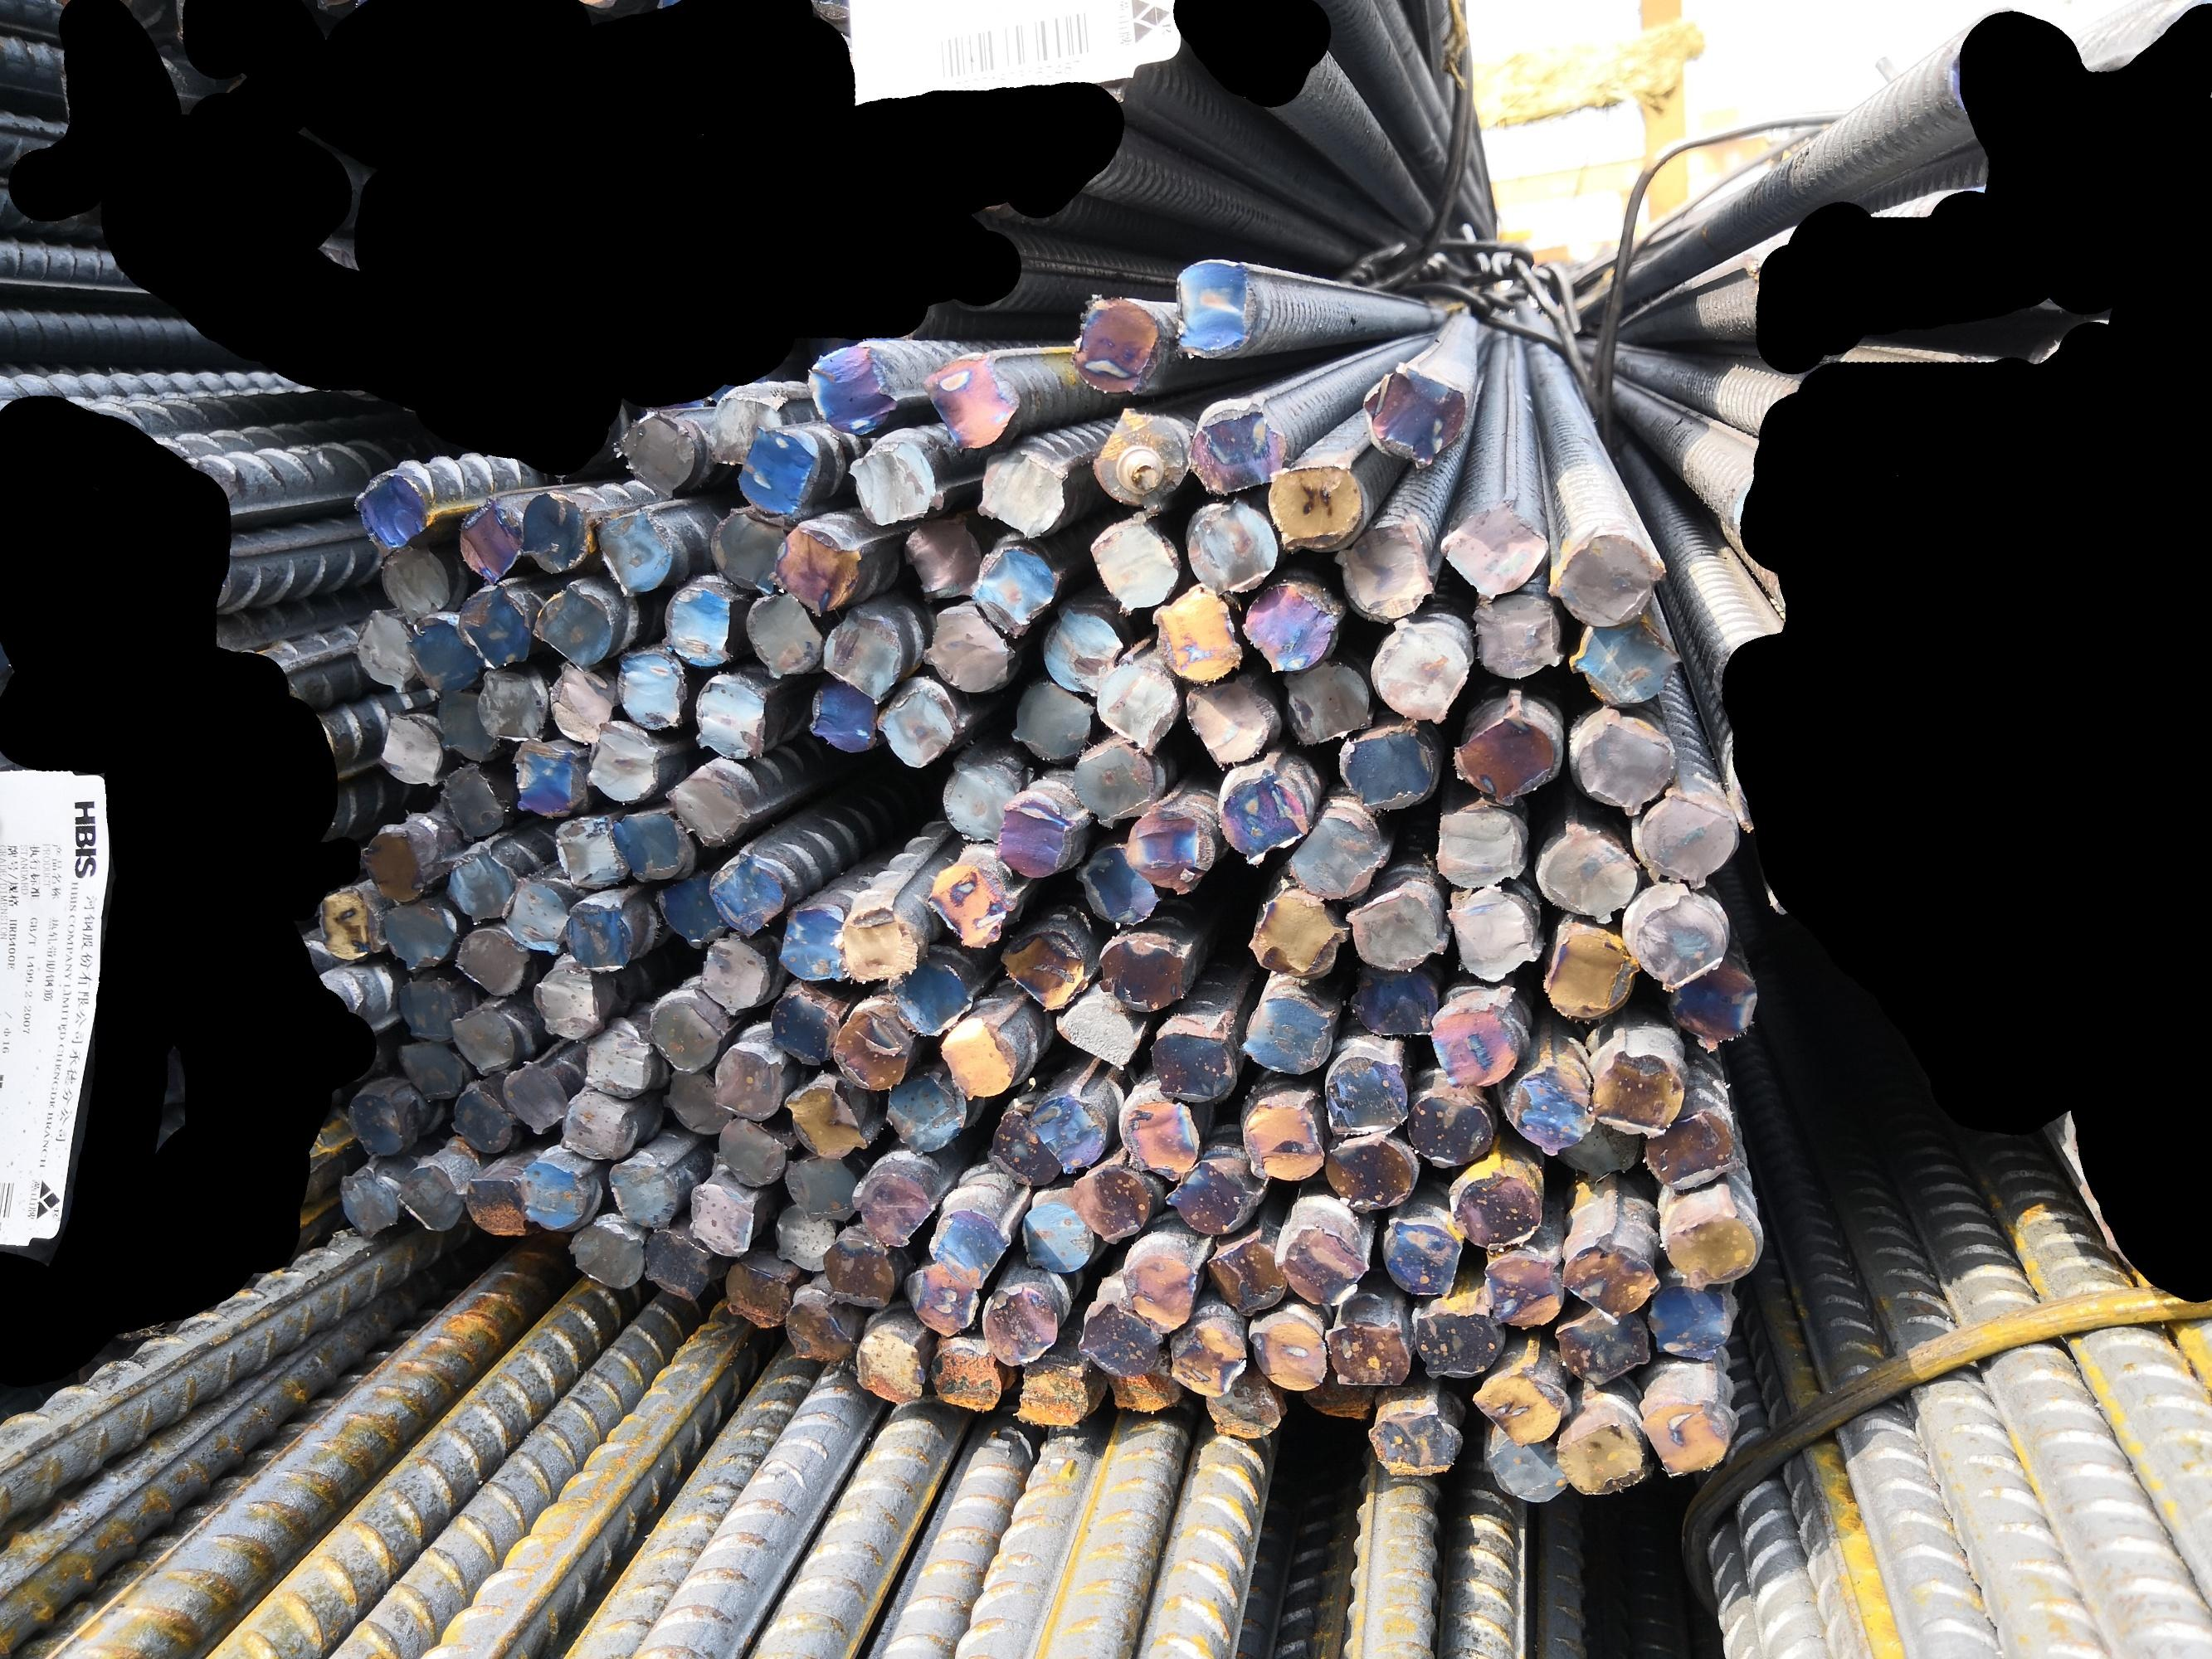bar: (1544, 526, 1666, 627), (1358, 357, 1469, 467), (1367, 612, 1473, 727), (1452, 697, 1564, 805), (1565, 709, 1677, 816), (1436, 495, 1550, 599), (1632, 786, 1740, 889), (915, 349, 1020, 453), (1534, 819, 1639, 924), (1567, 617, 1682, 709), (1245, 884, 1351, 983), (1236, 575, 1339, 676), (1543, 918, 1640, 1025), (845, 430, 950, 528), (1335, 521, 1435, 622), (1182, 401, 1286, 495), (1259, 458, 1367, 549), (1288, 803, 1388, 901), (1147, 582, 1243, 683), (1628, 890, 1729, 986), (1217, 760, 1309, 864), (800, 340, 899, 436), (1069, 295, 1163, 396), (1558, 1232, 1663, 1323), (1086, 514, 1184, 610), (1091, 410, 1191, 504), (1119, 802, 1215, 897), (1443, 889, 1541, 983), (1659, 957, 1759, 1049), (1428, 798, 1529, 889), (1344, 885, 1450, 971), (997, 915, 1091, 1011), (769, 518, 861, 615), (1180, 502, 1279, 592), (1065, 735, 1166, 824), (1659, 1204, 1762, 1291), (1088, 652, 1180, 748), (1590, 1047, 1686, 1140), (1272, 1218, 1370, 1309), (973, 444, 1070, 535), (1180, 676, 1278, 767), (1504, 1056, 1595, 1154), (1550, 1302, 1651, 1389), (1239, 985, 1335, 1075), (920, 601, 1016, 692), (967, 545, 1063, 636), (1468, 591, 1565, 680), (1171, 258, 1255, 361), (922, 857, 1014, 948), (1321, 1046, 1410, 1140), (1150, 1011, 1238, 1107), (1096, 931, 1196, 1014), (1335, 727, 1436, 809), (1426, 1000, 1518, 1089), (1049, 983, 1143, 1070), (1642, 1281, 1738, 1366), (455, 570, 535, 671), (525, 577, 615, 666), (702, 502, 790, 594), (657, 763, 751, 849), (936, 751, 1021, 845), (1239, 1100, 1328, 1188), (612, 408, 699, 498), (896, 518, 988, 603), (591, 505, 675, 599), (1035, 601, 1119, 695), (1279, 659, 1374, 742), (1645, 1110, 1740, 1194), (1469, 1364, 1567, 1445), (1072, 842, 1161, 929), (1117, 1091, 1203, 1182), (818, 608, 903, 699), (1401, 1086, 1496, 1168), (1551, 1419, 1647, 1499), (1639, 1399, 1734, 1480), (1450, 1171, 1546, 1251), (1318, 1136, 1417, 1213), (347, 467, 434, 554), (870, 683, 959, 769), (1009, 680, 1098, 765), (741, 587, 824, 678), (1476, 1249, 1567, 1333), (704, 847, 786, 939), (830, 903, 922, 985), (689, 666, 767, 762), (887, 953, 976, 1037), (1381, 1211, 1464, 1300), (779, 1075, 870, 1157), (734, 422, 814, 514), (1163, 1159, 1260, 1234), (560, 1208, 645, 1293), (1065, 1162, 1152, 1246), (934, 1011, 1018, 1098), (828, 1002, 910, 1091), (924, 1208, 1014, 1288), (657, 577, 736, 669), (1346, 964, 1438, 1042), (370, 538, 455, 622), (882, 1072, 967, 1155), (1025, 1086, 1109, 1171), (1203, 1229, 1286, 1314), (1241, 1314, 1330, 1394), (610, 640, 687, 732), (1318, 1314, 1412, 1389), (1363, 1408, 1464, 1478), (851, 1168, 936, 1249), (404, 612, 485, 699), (544, 810, 629, 890), (898, 1262, 983, 1342), (985, 1103, 1065, 1188), (995, 793, 1075, 878), (519, 484, 593, 577), (650, 866, 732, 948), (610, 803, 694, 884), (816, 1229, 896, 1312), (694, 931, 772, 1016), (1116, 1251, 1201, 1330), (1074, 1298, 1161, 1375), (432, 755, 506, 845), (1410, 1309, 1503, 1380), (554, 1089, 640, 1166), (573, 1012, 650, 1098), (765, 983, 842, 1068), (584, 714, 659, 802), (1482, 1436, 1569, 1511), (1553, 1114, 1642, 1187), (506, 739, 586, 819), (556, 896, 636, 976), (980, 1284, 1058, 1366), (370, 706, 446, 789), (643, 993, 722, 1073), (849, 1326, 927, 1406), (1164, 1321, 1246, 1398), (375, 897, 458, 972), (451, 493, 523, 580), (776, 899, 847, 986), (706, 390, 786, 467), (713, 1110, 790, 1190), (451, 924, 532, 1000), (528, 964, 603, 1046), (443, 842, 518, 924), (777, 1150, 861, 1223), (544, 659, 615, 744), (476, 666, 553, 744), (601, 1154, 682, 1229), (709, 1040, 784, 1121), (1009, 1354, 1089, 1429), (495, 873, 568, 955), (929, 1337, 1002, 1419), (1203, 1366, 1285, 1439), (777, 1288, 854, 1364), (1098, 1347, 1182, 1417), (347, 606, 413, 694), (659, 1063, 736, 1138), (802, 683, 880, 756), (333, 1159, 403, 1241), (687, 1175, 757, 1256), (424, 683, 499, 758), (352, 828, 427, 903), (516, 1157, 589, 1234), (641, 1227, 713, 1305), (497, 1058, 568, 1136), (392, 1154, 462, 1234), (1020, 1202, 1095, 1276), (443, 1080, 516, 1154), (443, 1002, 516, 1075), (720, 1253, 790, 1330), (314, 885, 382, 964), (458, 1168, 530, 1239), (769, 1201, 837, 1276), (340, 1089, 411, 1159), (390, 1040, 467, 1103), (1293, 1364, 1374, 1424), (390, 974, 460, 1040)
